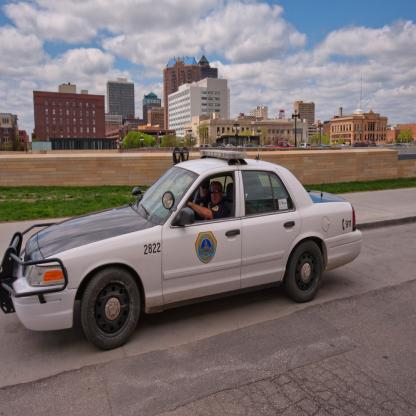Car: (1, 149, 364, 354)
